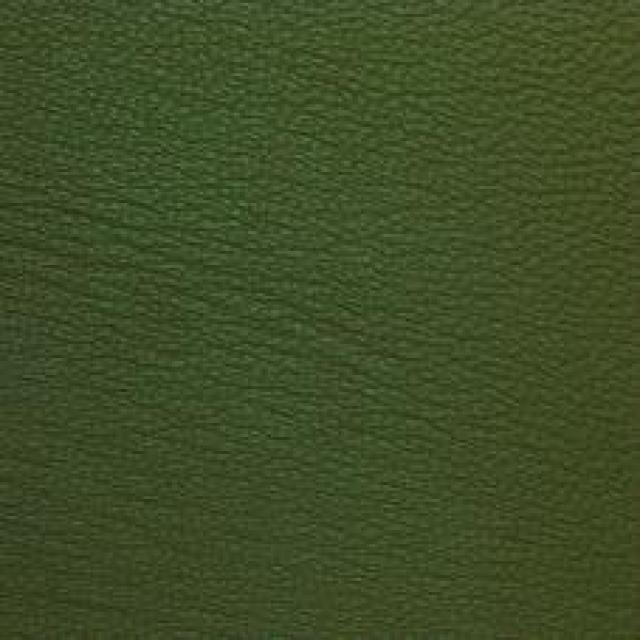Growth Marks: (36, 205, 323, 393)
